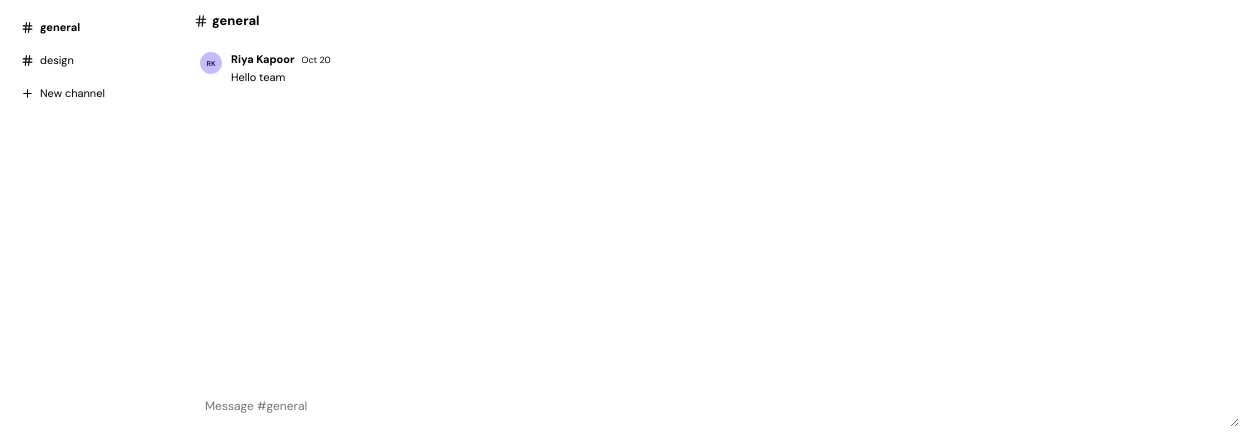
it: ChatPanel (US-16) › only Owners and Admins see "New channel"
Expected: the text "Hello team" is shown, [231,70,285,84]
Click the button "New channel" at [92, 93], box [12,78,172,108]
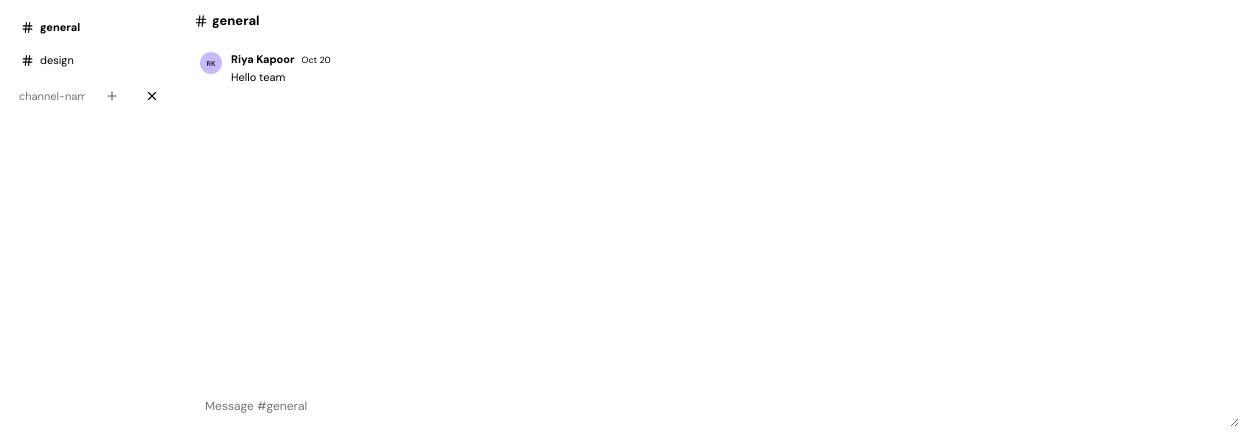
Type "release" into the field named "New channel name" at [52, 96], box [12,82,92,110]
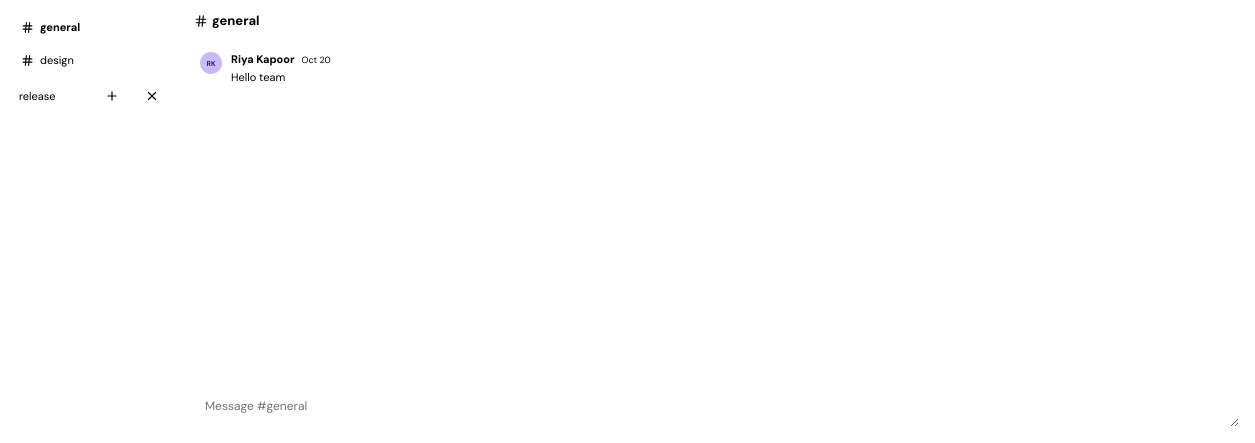
Click the button named "Create channel" at [114, 96], box [96,78,132,114]
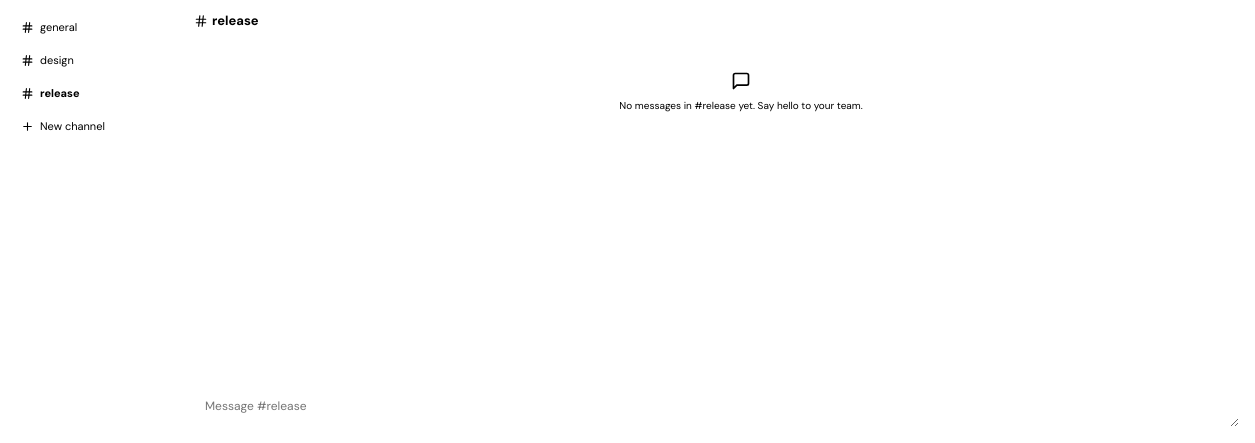
Expected: the button "release" is shown, [12,78,172,108]
